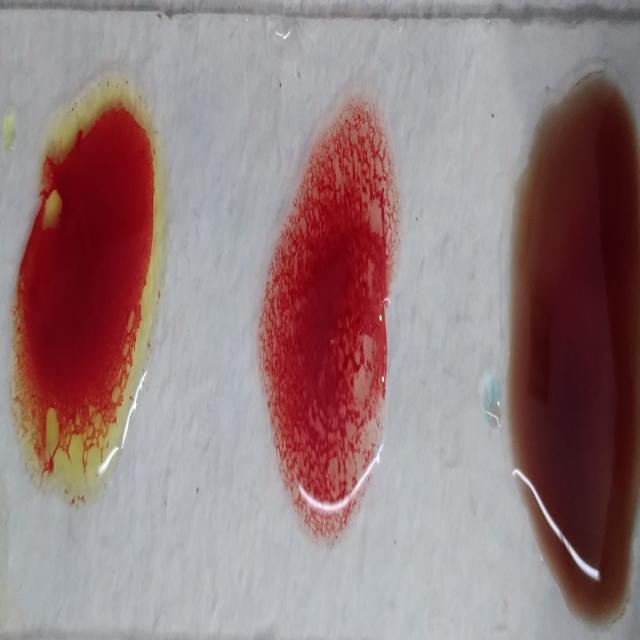B: (16, 76, 164, 510)
D: (265, 101, 400, 549)
